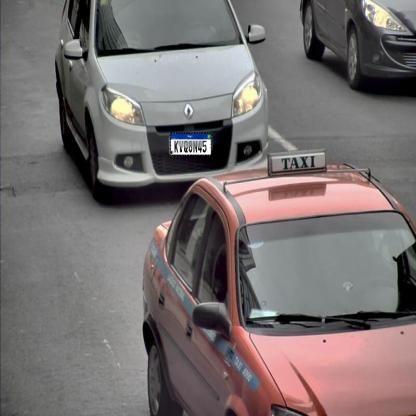PlacaM: (170, 132, 212, 156)
